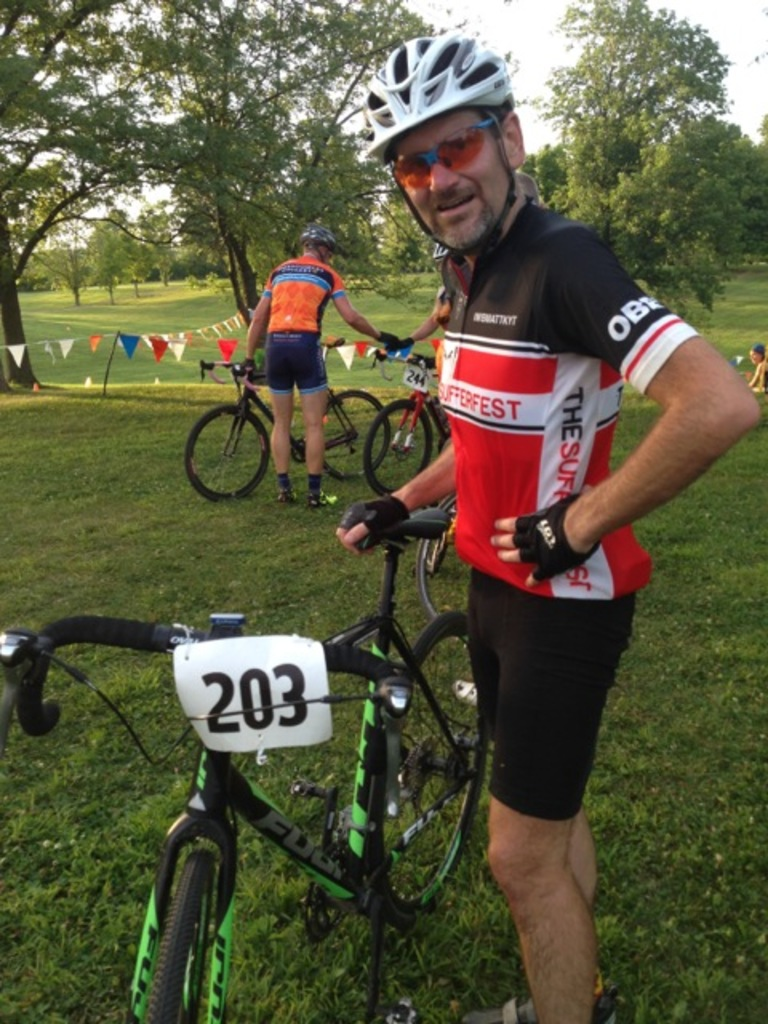Tree: (0, 0, 768, 392)
